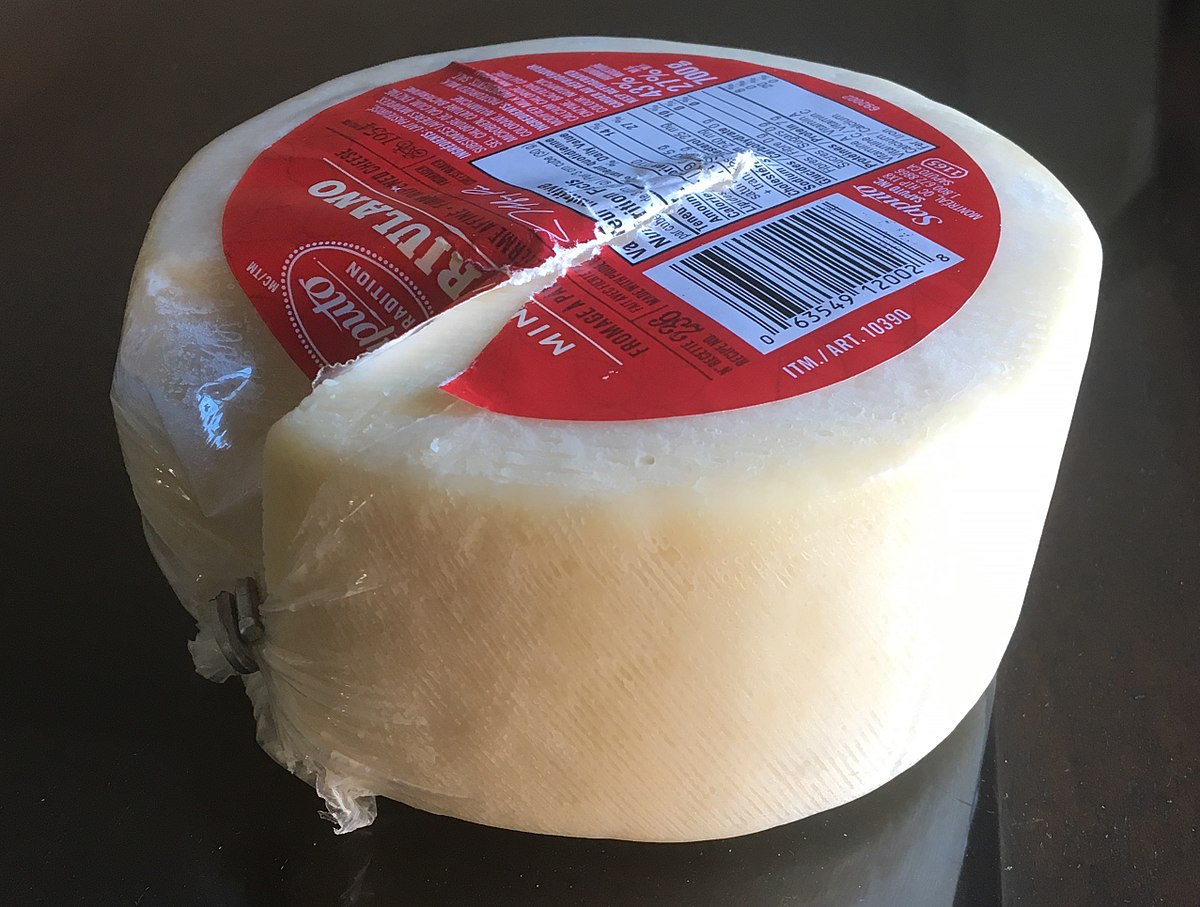cheese: (170, 21, 1057, 839)
